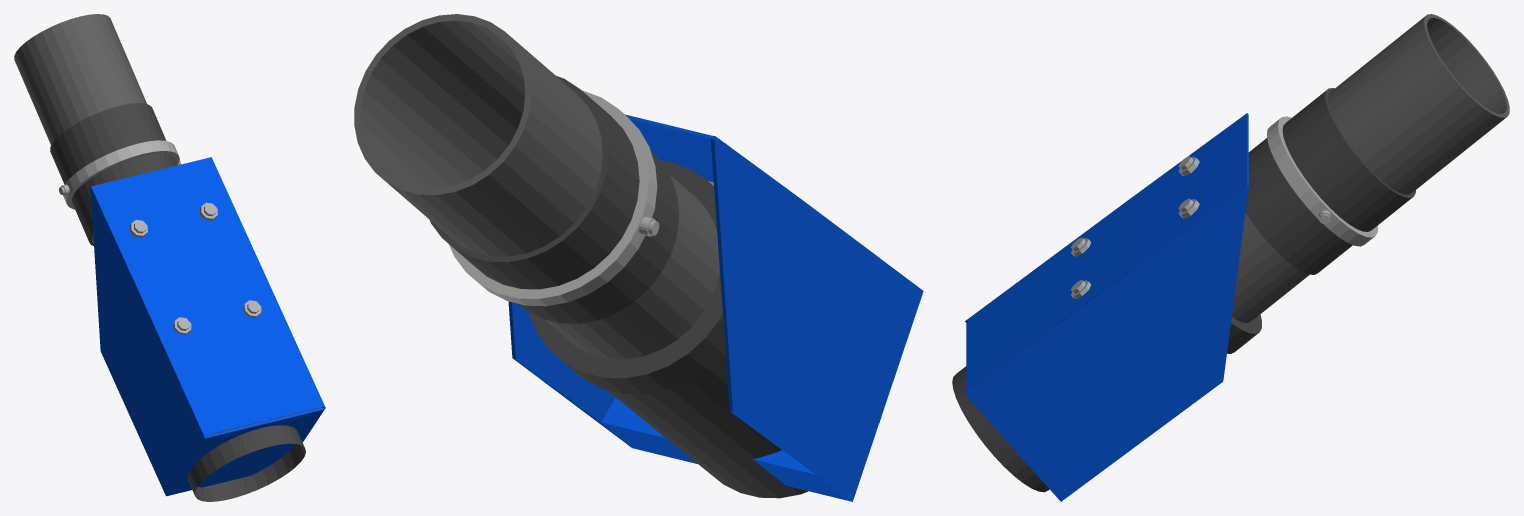
The picture shows the model from 3 angles, left to right: view 1: azimuth 30°, elevation 25°; view 2: azimuth 150°, elevation 25°; view 3: azimuth 270°, elevation 25°; orthographic projection. The views are drawn at different scales.
Parts seen in each view (by area): view 1: Tube; view 2: Tube; view 3: Tube.
Boxes of the visible parts, x1,y1,x2,y2 form: Tube: (14, 14, 325, 501); Tube: (354, 14, 923, 501); Tube: (952, 14, 1509, 501).
Bounding box in the file's own units: 123 × 112 × 38.
